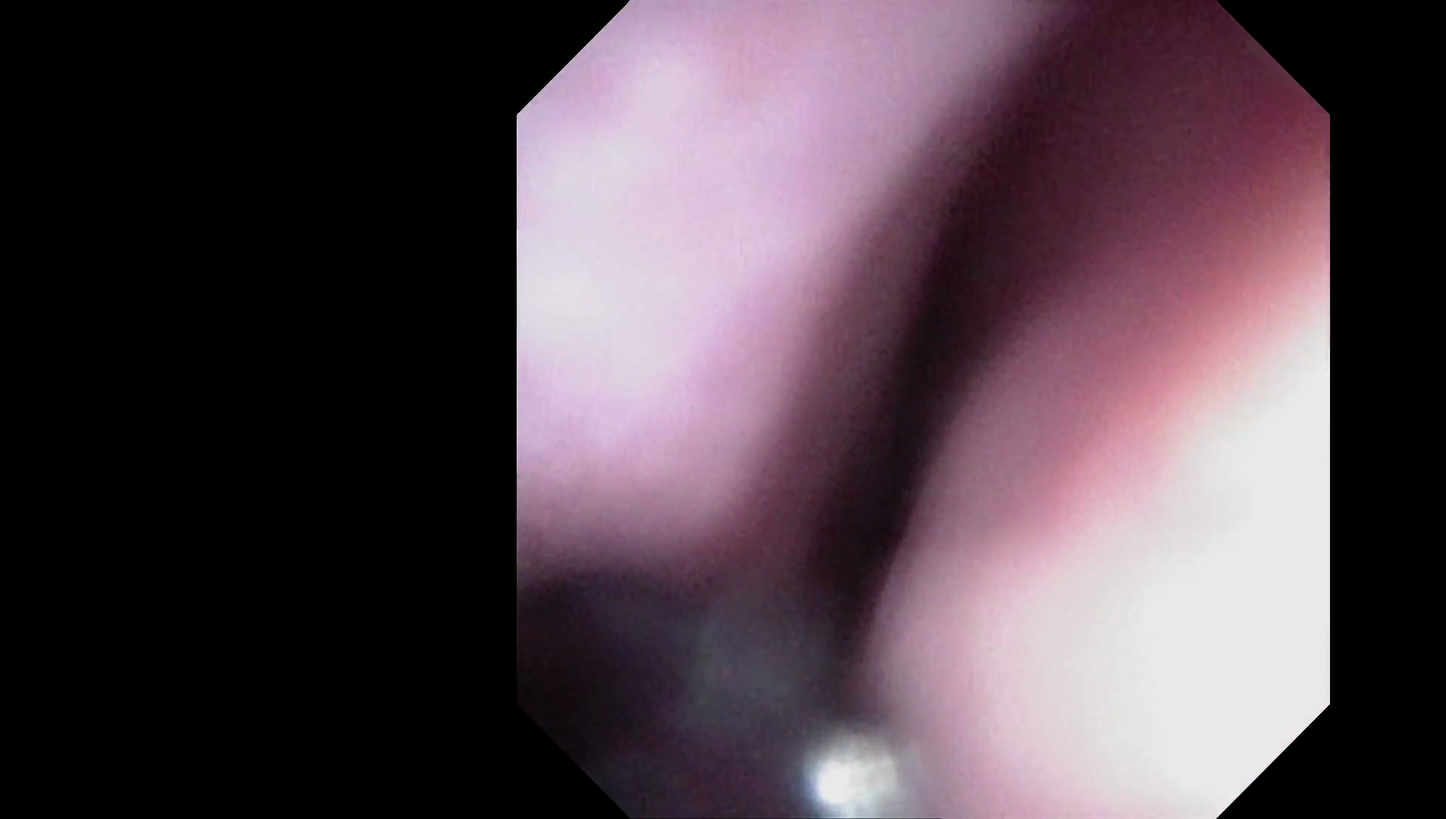close_wall: (1013, 288, 1327, 702), (532, 123, 839, 425)
next: (769, 135, 1026, 680)
